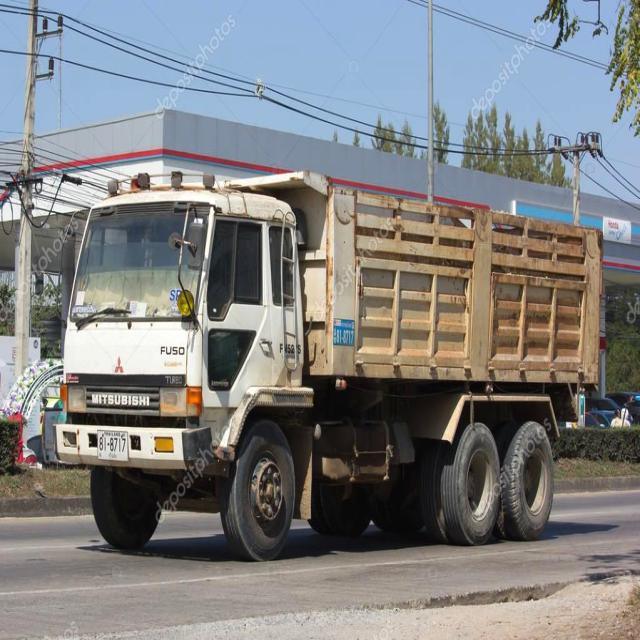truck: (52, 172, 599, 557)
